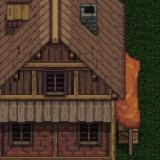Obstacle: (0, 3, 152, 160)
